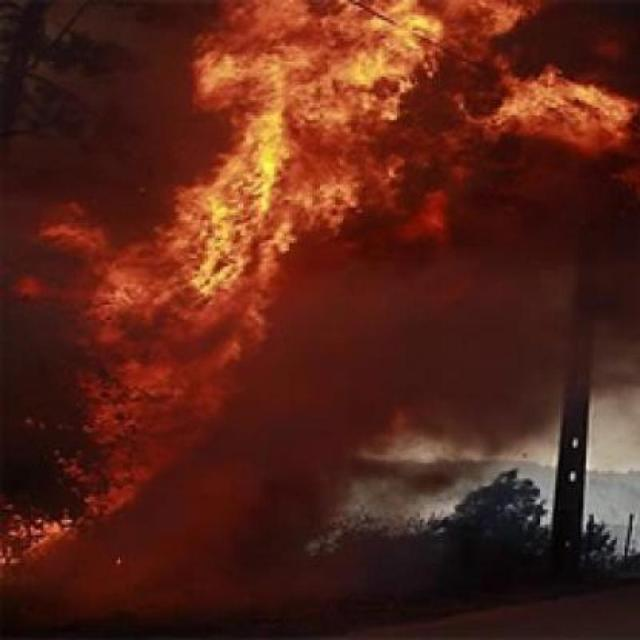Fire: (20, 0, 520, 557)
Smoke: (232, 306, 640, 639)
